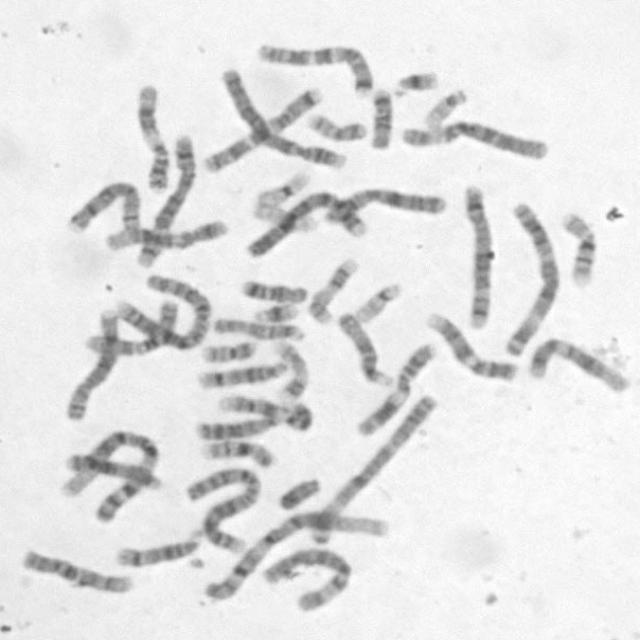A1: (201, 510, 390, 602), (58, 430, 160, 526)
A2: (113, 274, 212, 352), (183, 465, 262, 556)
A3: (307, 392, 439, 546), (497, 202, 564, 361)
B4: (219, 66, 350, 174), (244, 188, 370, 258)
B5: (134, 132, 198, 270), (459, 183, 497, 331)
C10: (81, 298, 180, 358), (21, 549, 136, 595)
C11: (354, 340, 438, 438), (136, 84, 170, 193)
C12: (528, 337, 632, 396), (104, 217, 229, 254)
C6: (258, 546, 354, 614), (400, 120, 552, 162)
C7: (200, 85, 324, 175), (255, 42, 375, 95)
C8: (64, 307, 120, 422), (68, 180, 146, 243)
C9: (421, 311, 521, 384), (217, 392, 314, 433)
D13: (64, 451, 164, 493), (194, 415, 280, 442)
D14: (114, 528, 205, 568), (194, 360, 291, 391)
D15: (337, 310, 394, 388), (212, 316, 307, 343)
E16: (556, 210, 599, 288), (200, 438, 277, 470)
E17: (308, 257, 360, 326), (270, 339, 310, 404)
E18: (368, 88, 395, 150), (242, 279, 308, 303)
F19: (251, 200, 319, 237), (256, 169, 314, 207)
F20: (304, 111, 368, 142), (200, 339, 259, 363)
G21: (392, 69, 442, 103), (252, 302, 299, 324)
G22: (350, 281, 404, 326), (420, 88, 467, 134)
X: (322, 187, 449, 226)
Y: (278, 476, 322, 512)
